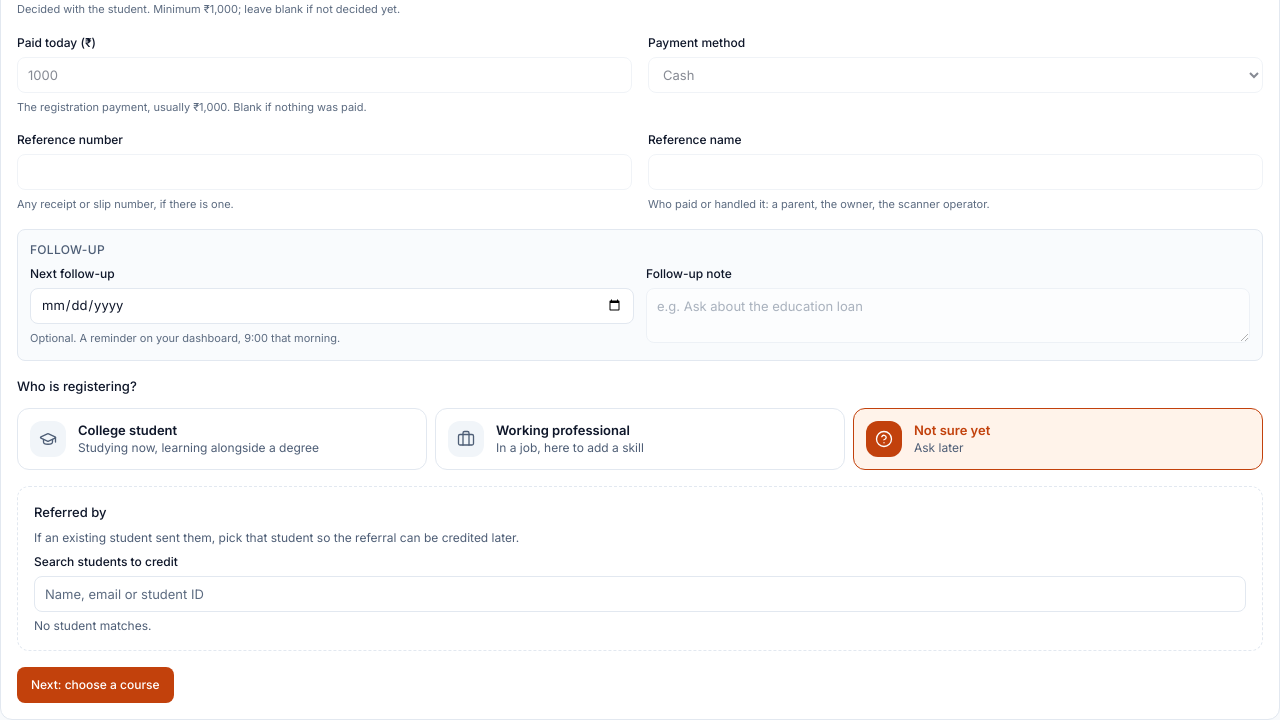
Test: RegistrationWizard — confirming › registers a Meritto lead: fills the form from it and marks it registered
The image size is (1280, 720).
(page scrolled)
Click the button "Next: choose a course" at (95,684), box [17,666,174,702]
(page scrolled)
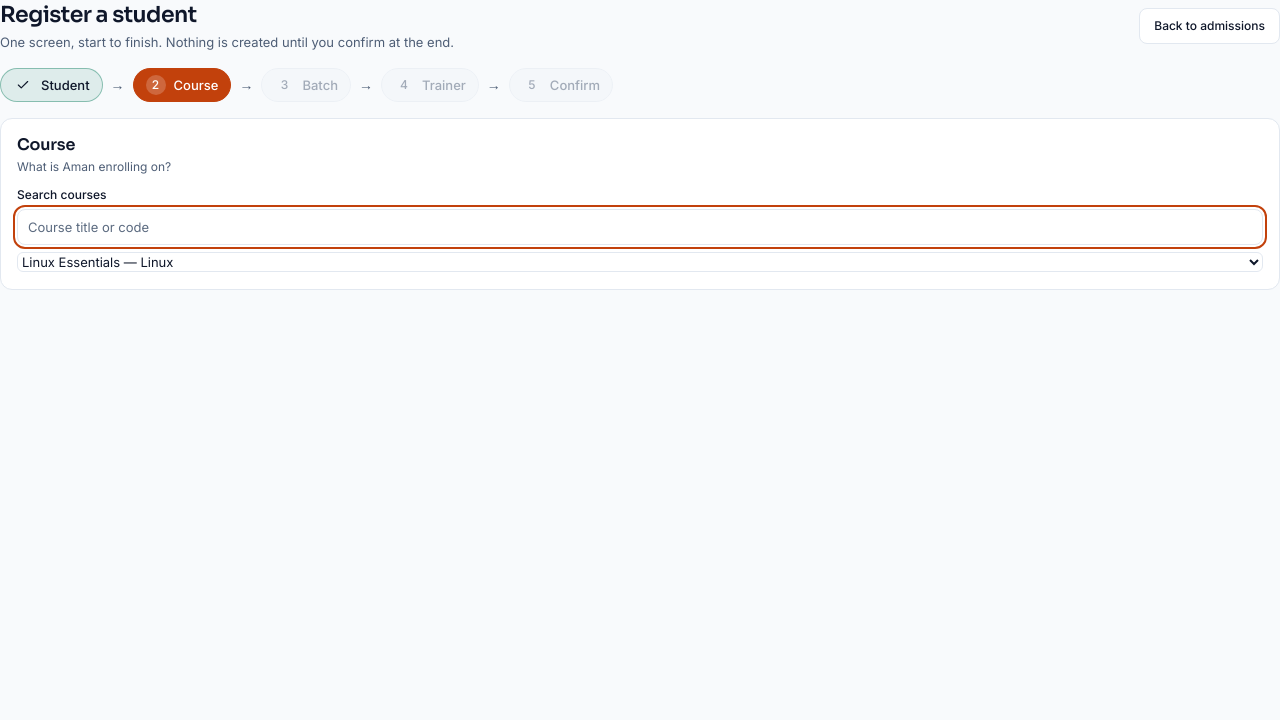
Select "Linux Essentials — Linux" in the dropdown named "Search courses results" at (640,262), box [17,252,1263,272]
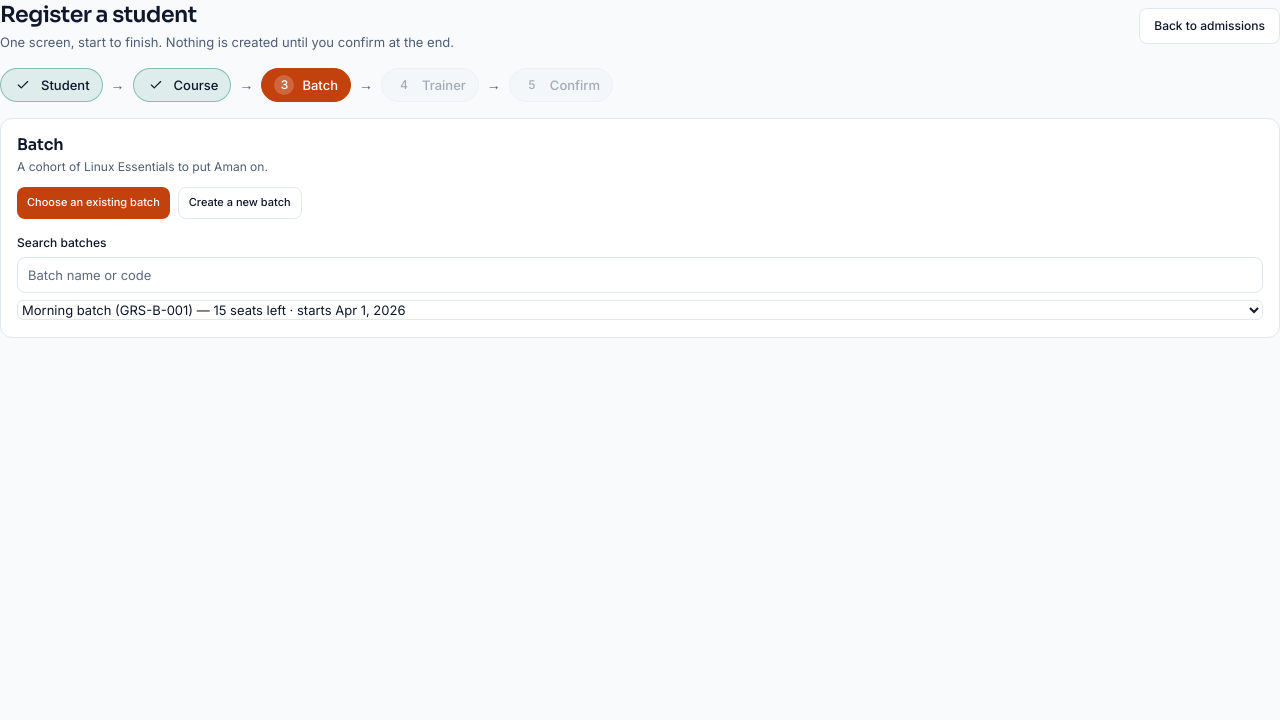
Select "Morning batch (GRS-B-001) — 15 seats left · starts Apr 1, 2026" in the dropdown named "Search batches results" at (640,310), box [17,300,1263,320]
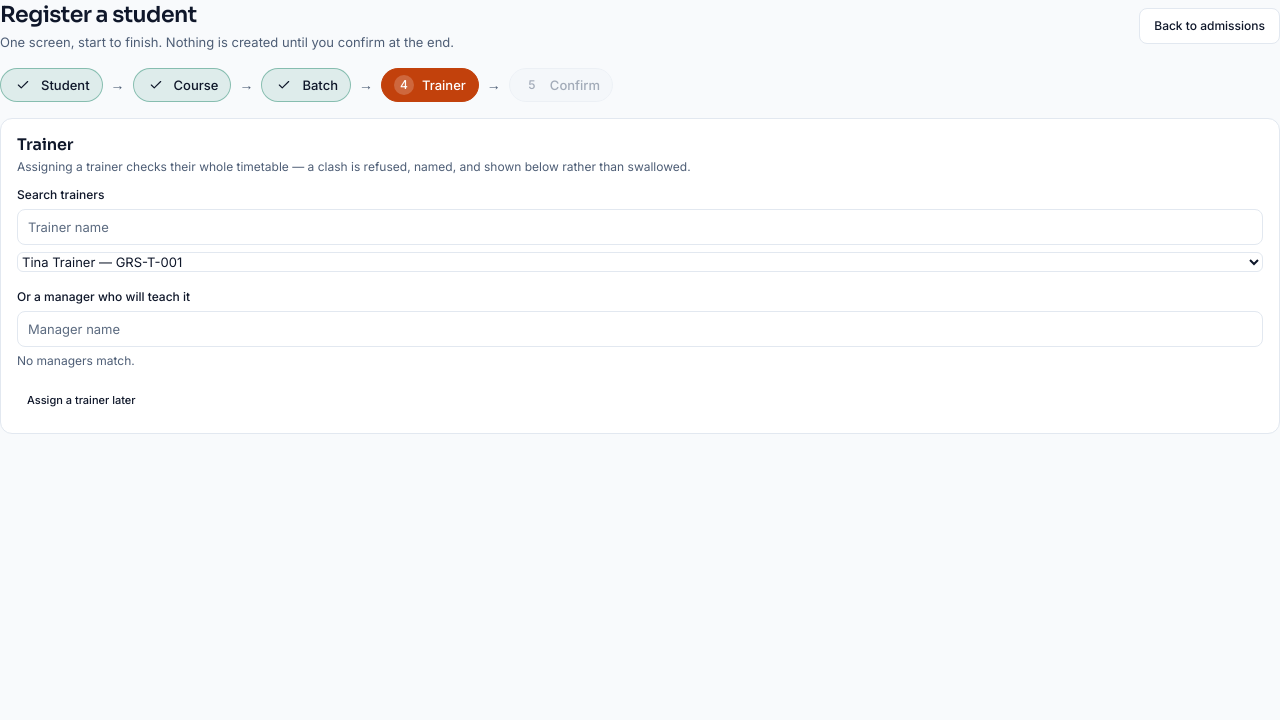
Select "Tina Trainer — GRS-T-001" in the dropdown named "Search trainers results" at (640,262), box [17,252,1263,272]
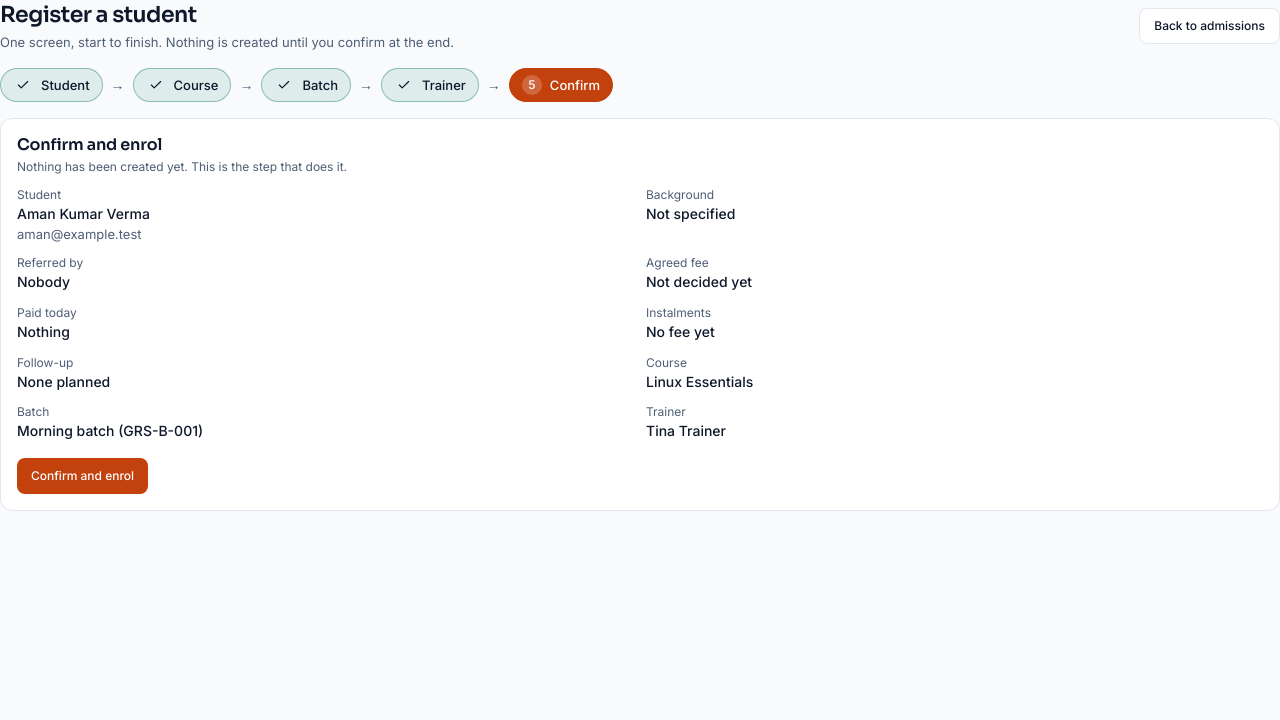
Expected: the heading "Confirm and enrol" is shown, [17,134,162,155]
Click the button "Confirm and enrol" at (83,476), box [17,458,148,494]
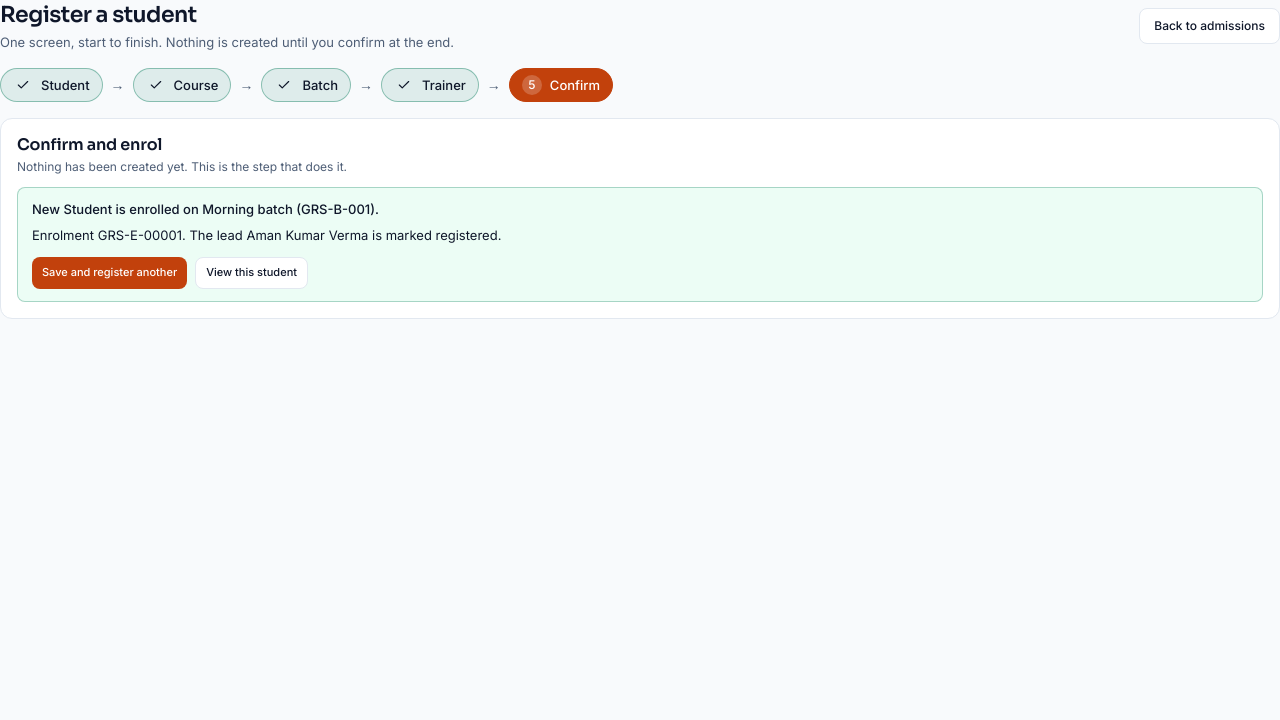
Expected: the text "The lead Aman Kumar Verma is marked registered" is shown, [186,228,501,244]
